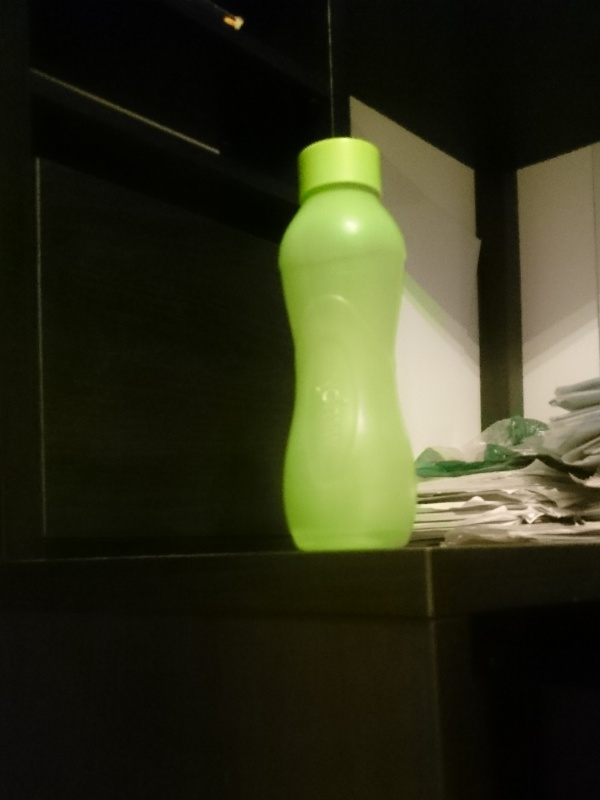my bottle: (279, 138, 414, 557)
